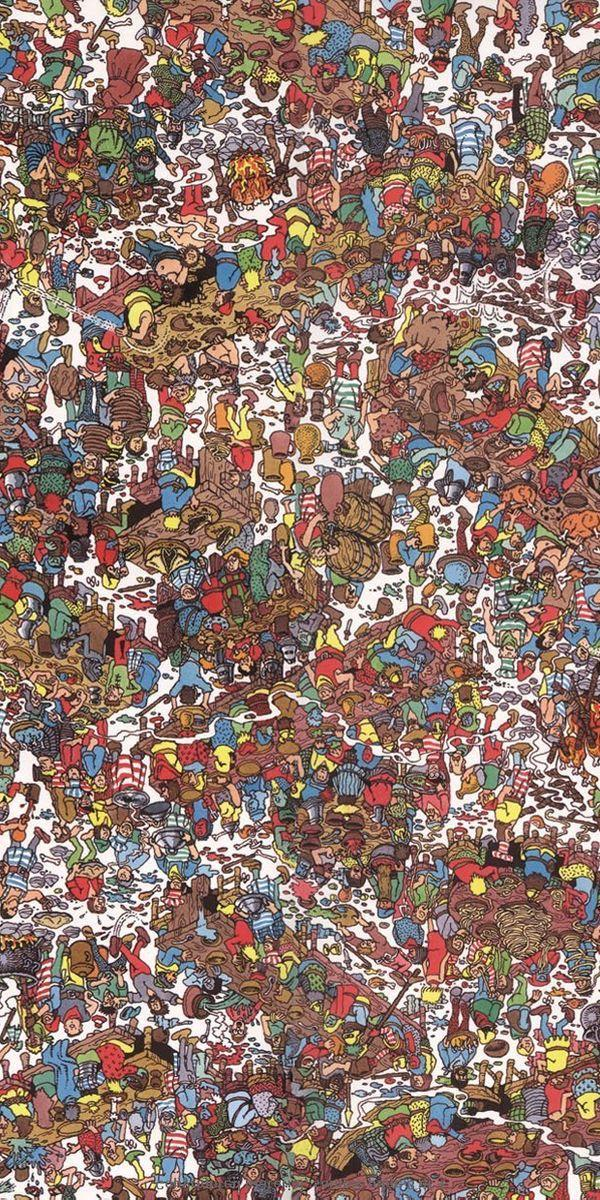waldos: (424, 760, 445, 789)
